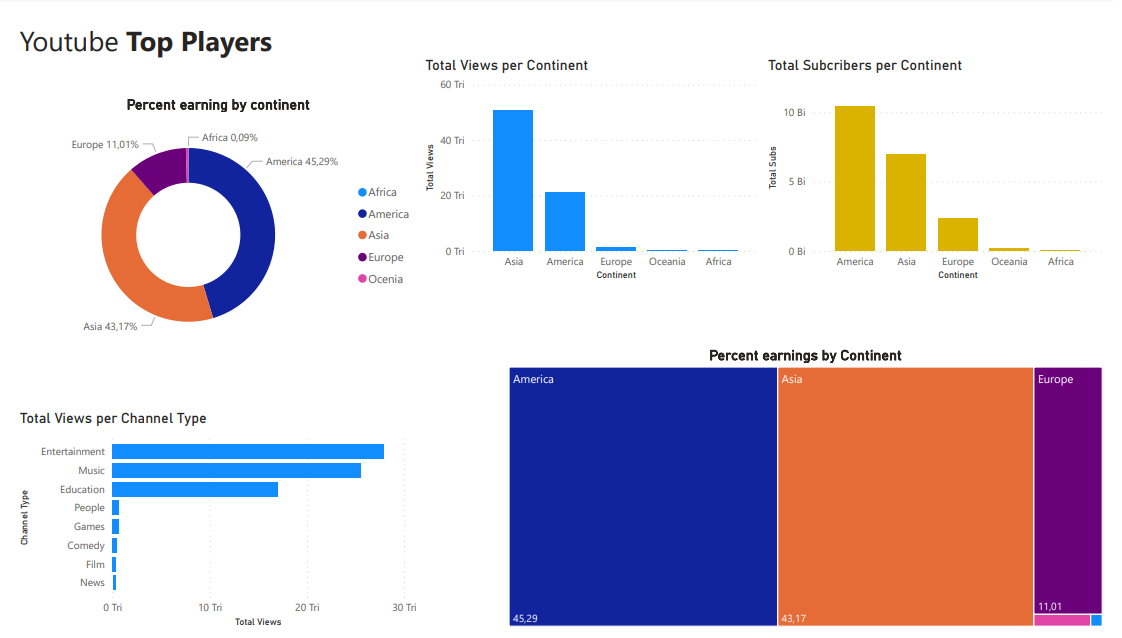

Layout of this report page (visuals, bound fields, positions):
{"tool":"powerbi","page":{"name":"Página 1","canvas":[1280,720],"ordinal":0},"visuals":[{"type":"textbox","box":[0,0,610.7,93.1],"z":0},{"type":"donutChart","title":"Percent earning by continent","fields":{"Y":["Sum(Percentage of pay per continent.pct_earnings_africa)","Sum(Percentage of pay per continent.pct_earnings_america)","Sum(Percentage of pay per continent.pct_earnings_asia)","Sum(Percentage of pay per continent.pct_earnings_europe)","Sum(Percentage of pay per continent.pct_earnings_ocenia)"]},"box":[0,93.1,475.5,307.2],"z":1000},{"type":"columnChart","title":"Total Views per Continent","fields":{"Category":["Top continents in the Youtube space; Uploads, views, earnings ans Subs.continent"],"Y":["Sum(Top continents in the Youtube space; Uploads, views, earnings ans Subs.total_views)"]},"box":[475.5,46.6,402.1,267.8],"z":2000},{"type":"columnChart","title":"Total Subcribers per Continent","fields":{"Category":["Top continents in the Youtube space; Uploads, views, earnings ans Subs.continent"],"Y":["Sum(Top continents in the Youtube space; Uploads, views, earnings ans Subs.total_subs)"]},"box":[877.6,46.6,402.1,267.8],"z":3000},{"type":"clusteredBarChart","title":"Total Views per Channel Type","fields":{"Category":["Top 8 channel types, sum views.channel_type"],"Y":["Sum(Top 8 channel types, sum views.total_views)"]},"box":[0,461.2,475.5,258.8],"z":4000},{"type":"treemap","title":"Percent earnings by Continent","fields":{"Values":["Sum(Percentage of pay per continent.pct_earnings_africa)","Sum(Percentage of pay per continent.pct_earnings_america)","Sum(Percentage of pay per continent.pct_earnings_asia)","Sum(Percentage of pay per continent.pct_earnings_europe)","Sum(Percentage of pay per continent.pct_earnings_ocenia)"]},"box":[574,386.9,705.7,333.1],"z":5000}]}

Visuals, with their boxes in screenshot pixels (x1, y1, x2, y2), scaled from the page's 1280x720 canvas onto the 1122x638 screenshot:
textbox: 0, 0, 535, 82
"Percent earning by continent" donutChart: 0, 82, 417, 355
"Total Views per Continent" columnChart: 417, 41, 769, 279
"Total Subcribers per Continent" columnChart: 769, 41, 1121, 279
"Total Views per Channel Type" clusteredBarChart: 0, 409, 417, 637
"Percent earnings by Continent" treemap: 503, 343, 1121, 637
